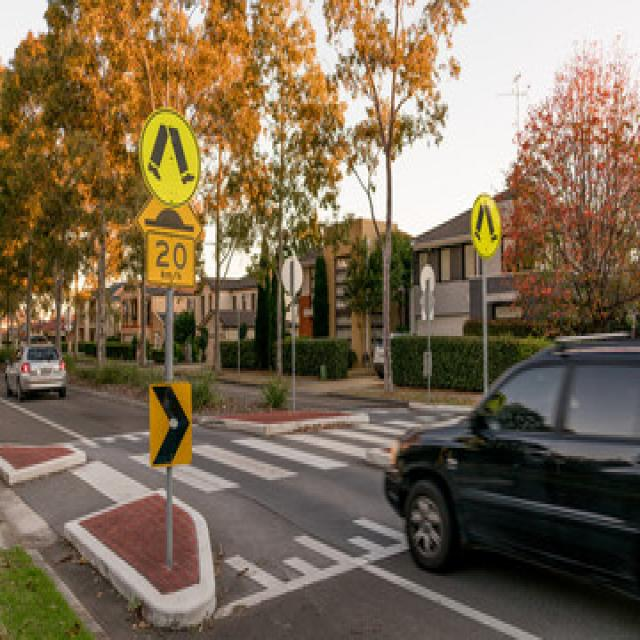hump: (135, 178, 205, 266)
